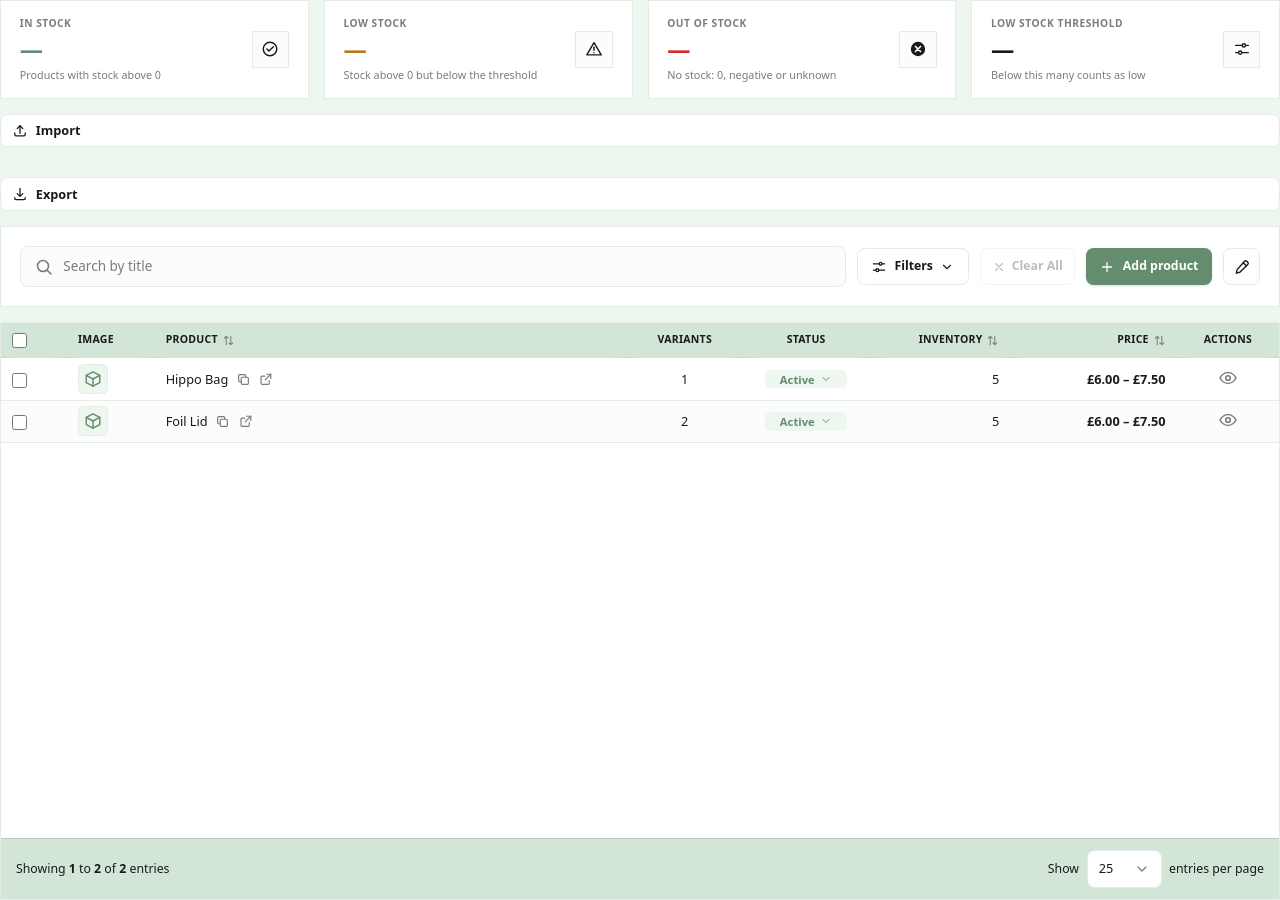
Test: editing products in bulk › has no Vendor column — not in the table and not in the Columns menu
expect the checkbox named "Select Hippo Bag" is shown: met, box [12,373,27,388]
Click the button named "Edit in bulk" at x=1242, y=267, box [1223,248,1260,285]
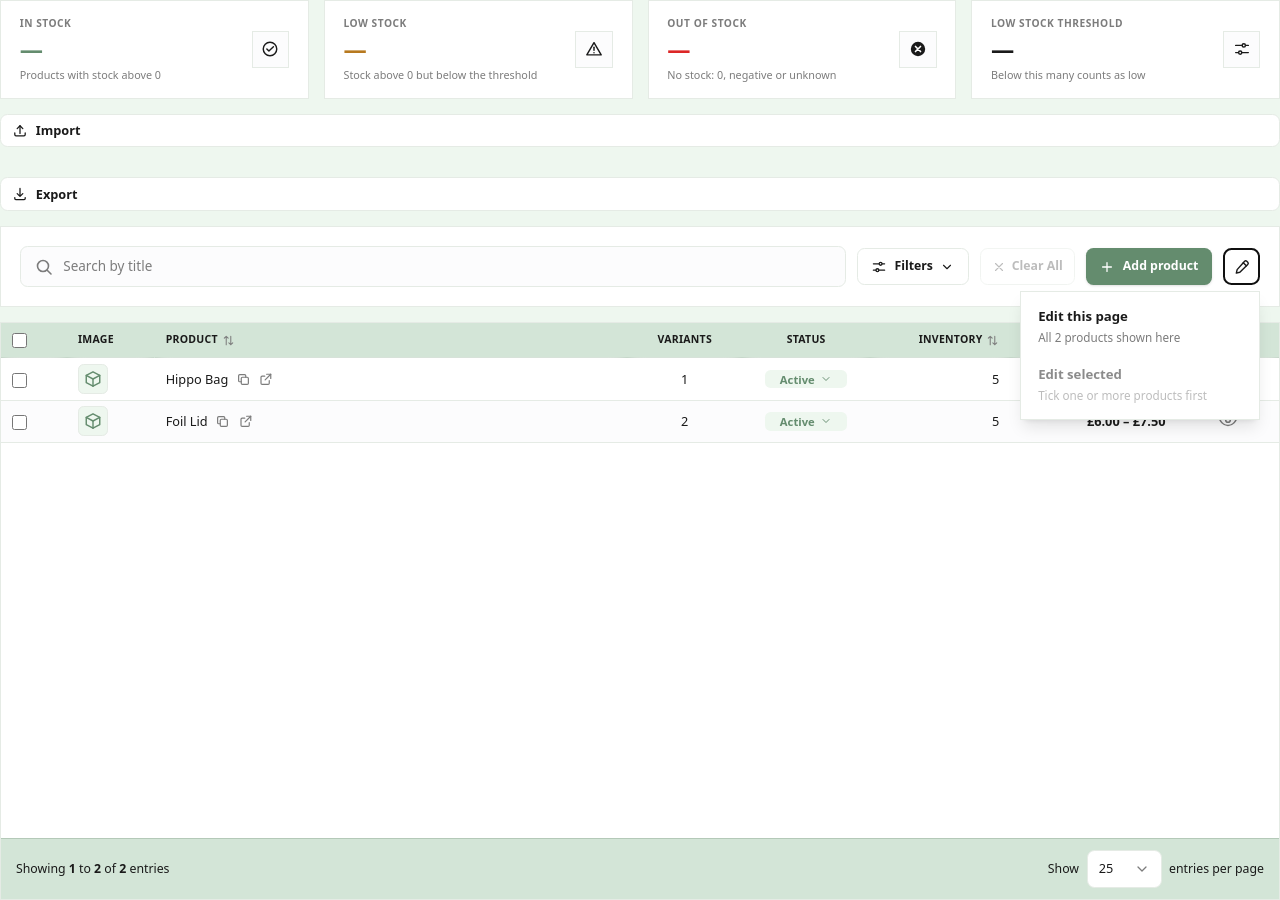
Click the menu item "Edit this page All 2 products shown here" at x=1140, y=327, box [1027,298,1254,356]
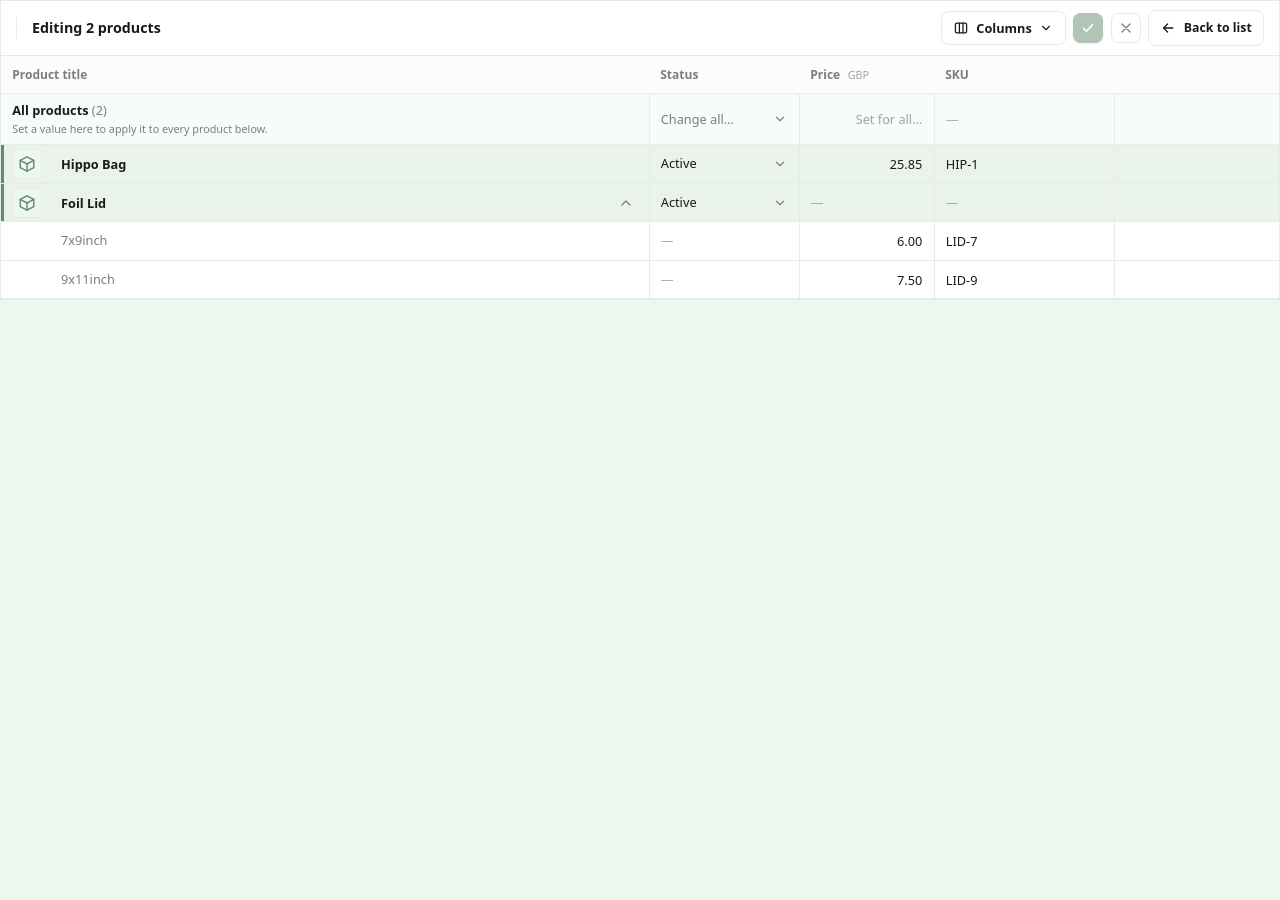
expect the heading "Editing 2 products" is shown: met, box [32,17,161,39]
expect the field named "Title for Hippo Bag" is shown: met, box [50,145,649,183]
expect the field named "Title for Foil Lid" is shown: met, box [50,184,604,221]
Click the button "Columns" at x=1003, y=28, box [940,11,1066,45]
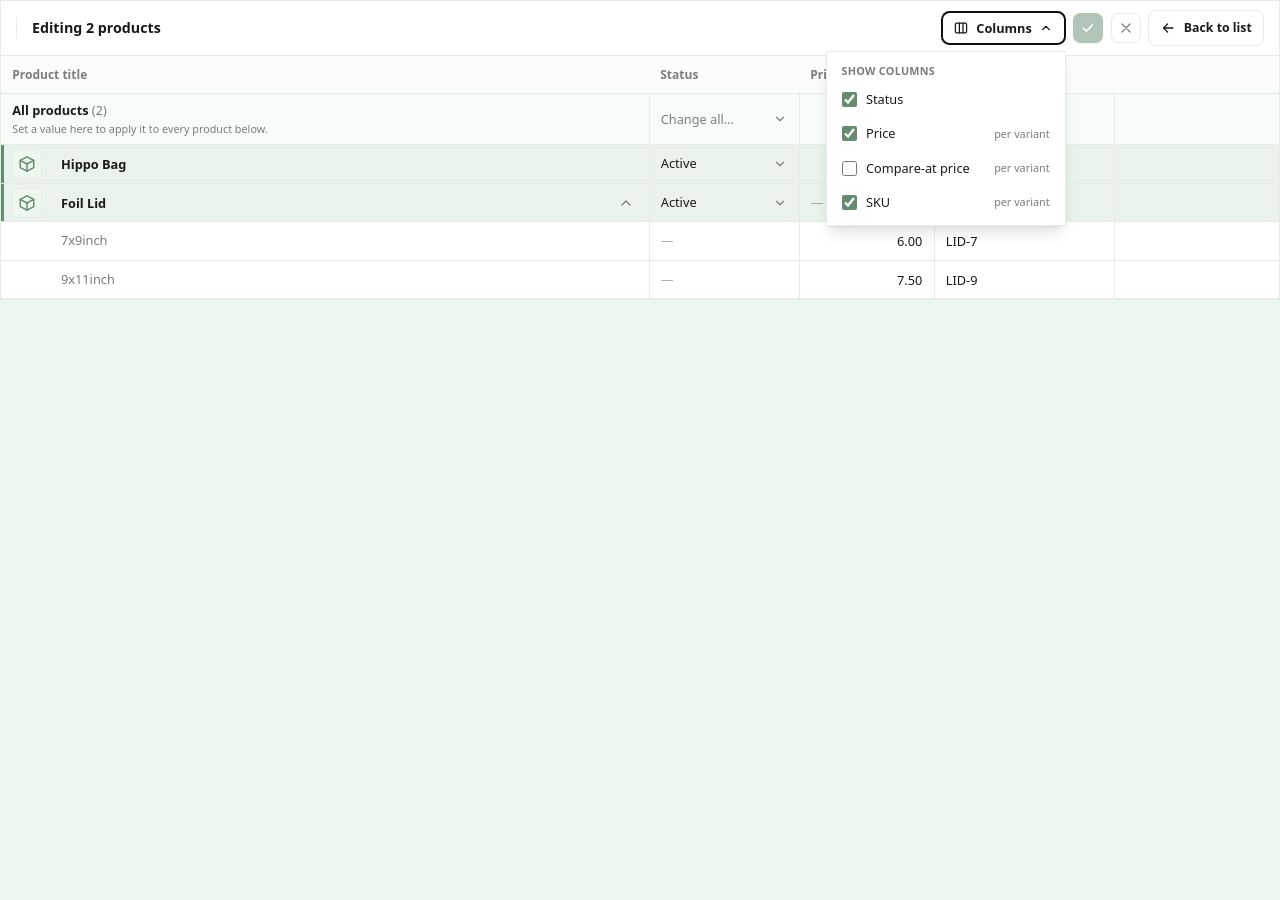
expect the checkbox labelled "Status" is checked: met, box [842,92,857,107]
expect the checkbox labelled "Price per variant" is checked: met, box [842,126,857,142]
expect the checkbox labelled "SKU per variant" is checked: met, box [842,195,857,210]
